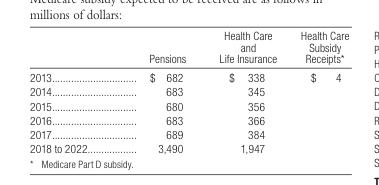table: (29, 28, 348, 153)
table column: (29, 28, 117, 153), (201, 28, 288, 153), (117, 28, 201, 153), (288, 28, 348, 153)
table column header: (29, 28, 348, 67)
table row: (29, 28, 348, 67), (29, 67, 348, 84), (29, 84, 348, 98), (29, 98, 348, 112), (29, 112, 348, 126), (29, 126, 348, 140), (29, 140, 348, 153)
